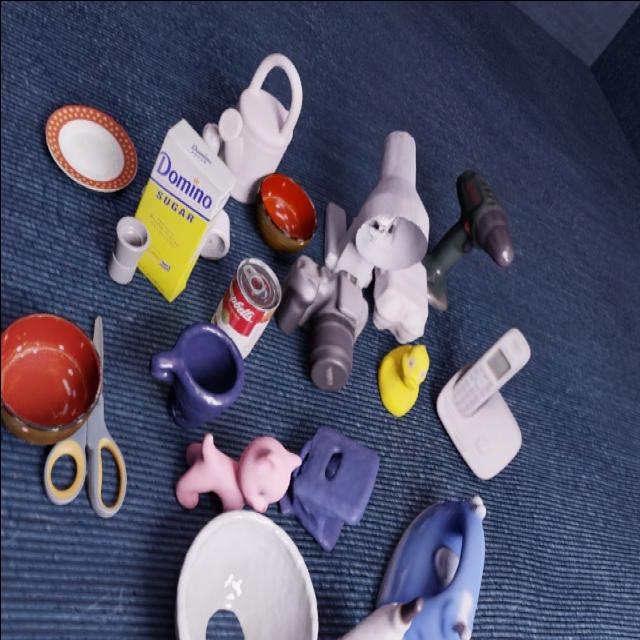Other Objects: (43, 315, 125, 516), (0, 313, 100, 443), (279, 425, 377, 549), (175, 432, 300, 511), (150, 323, 242, 427), (45, 104, 135, 191), (209, 257, 279, 356), (254, 172, 314, 252), (376, 344, 428, 415), (107, 216, 148, 283)
